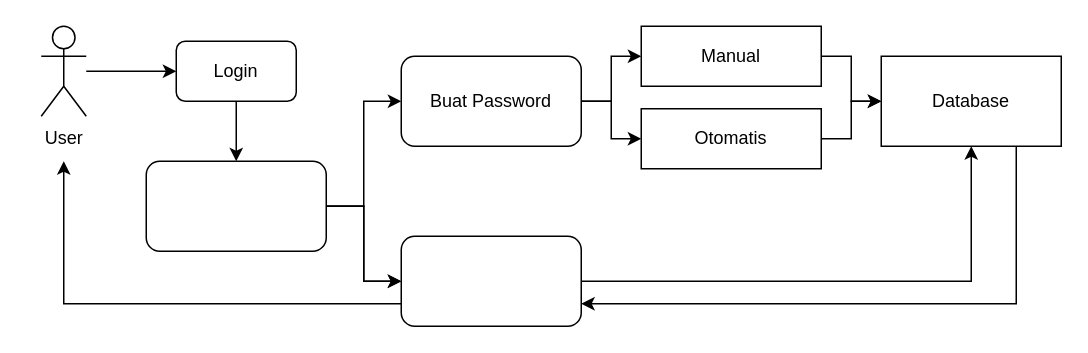
The diagram is 1088 pixels wide and 353 high, and some of its shapes have lost their labels. The centre of each missing label's shape, as x and y in pixels:
Cari Password: (x=490, y=280)
Main Menu: (x=235, y=205)
